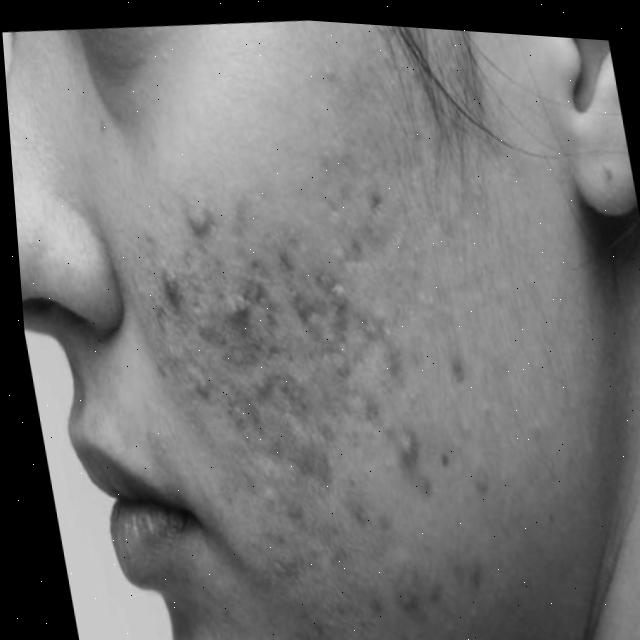Acne: (129, 109, 530, 570)
